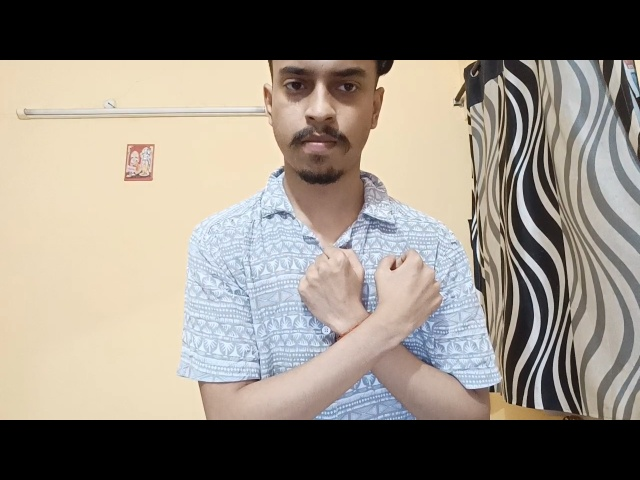Love: (278, 236, 459, 387)
